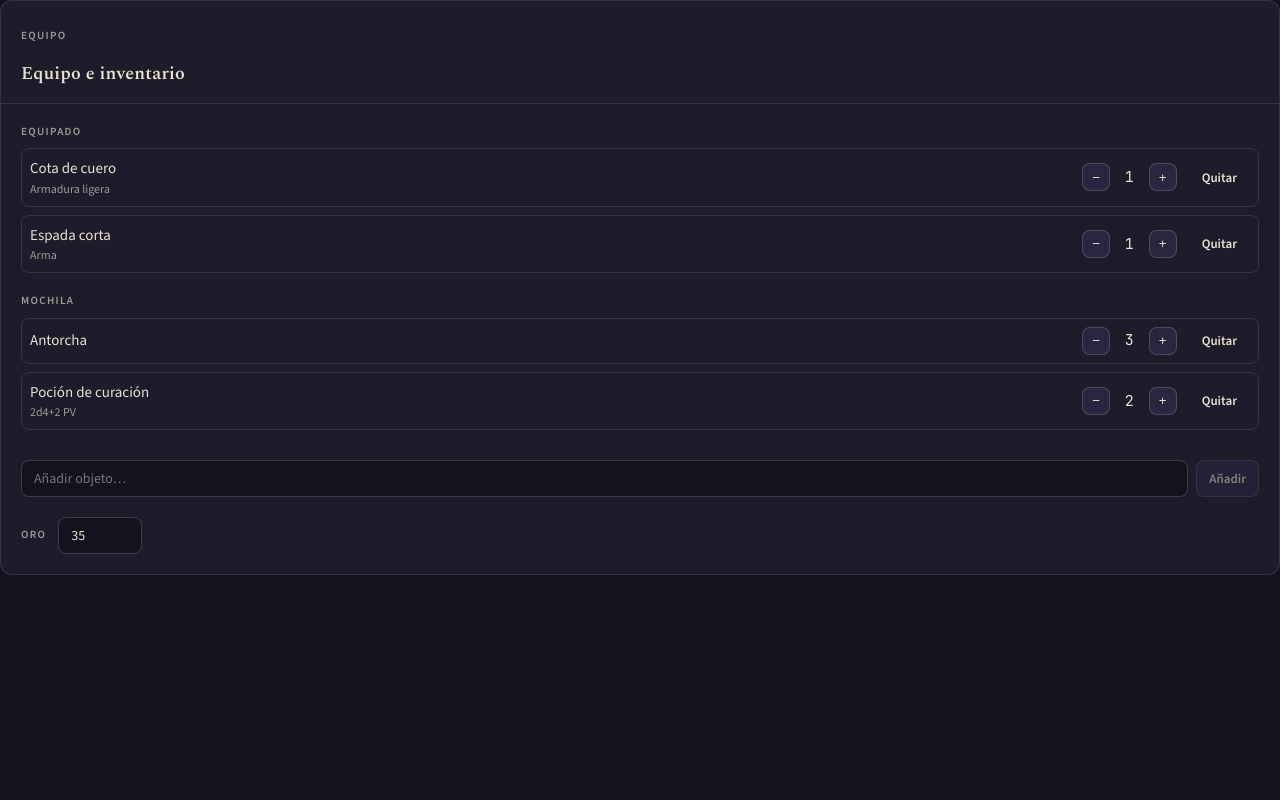
Scenario: InventoryPanel › a qty stepper increases the local count without sending a command
What coordinates should you click on to do the following:
click the button named "aumentar"
I would click on:
 (1163, 340)
Its box is left=1149, top=326, right=1177, bottom=354.
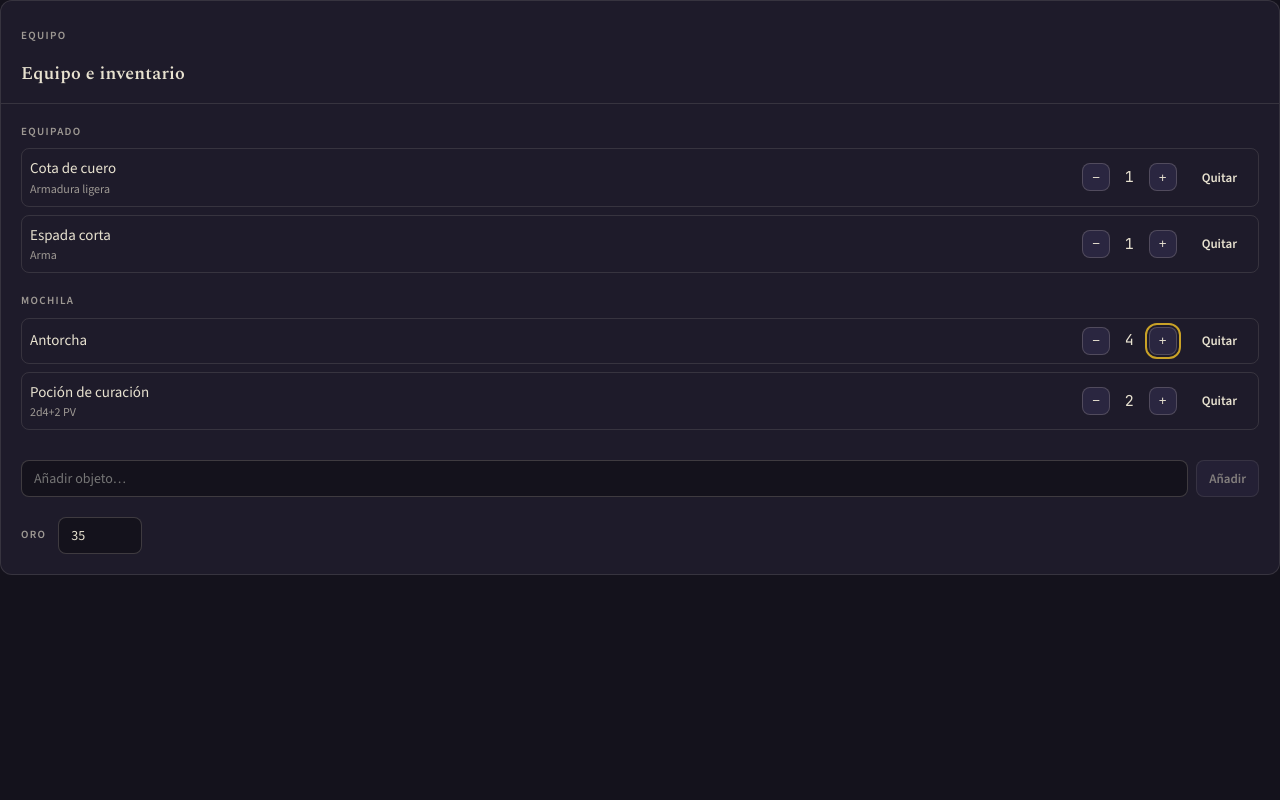
Now the text "4" is shown, box left=1125, top=330, right=1134, bottom=350
